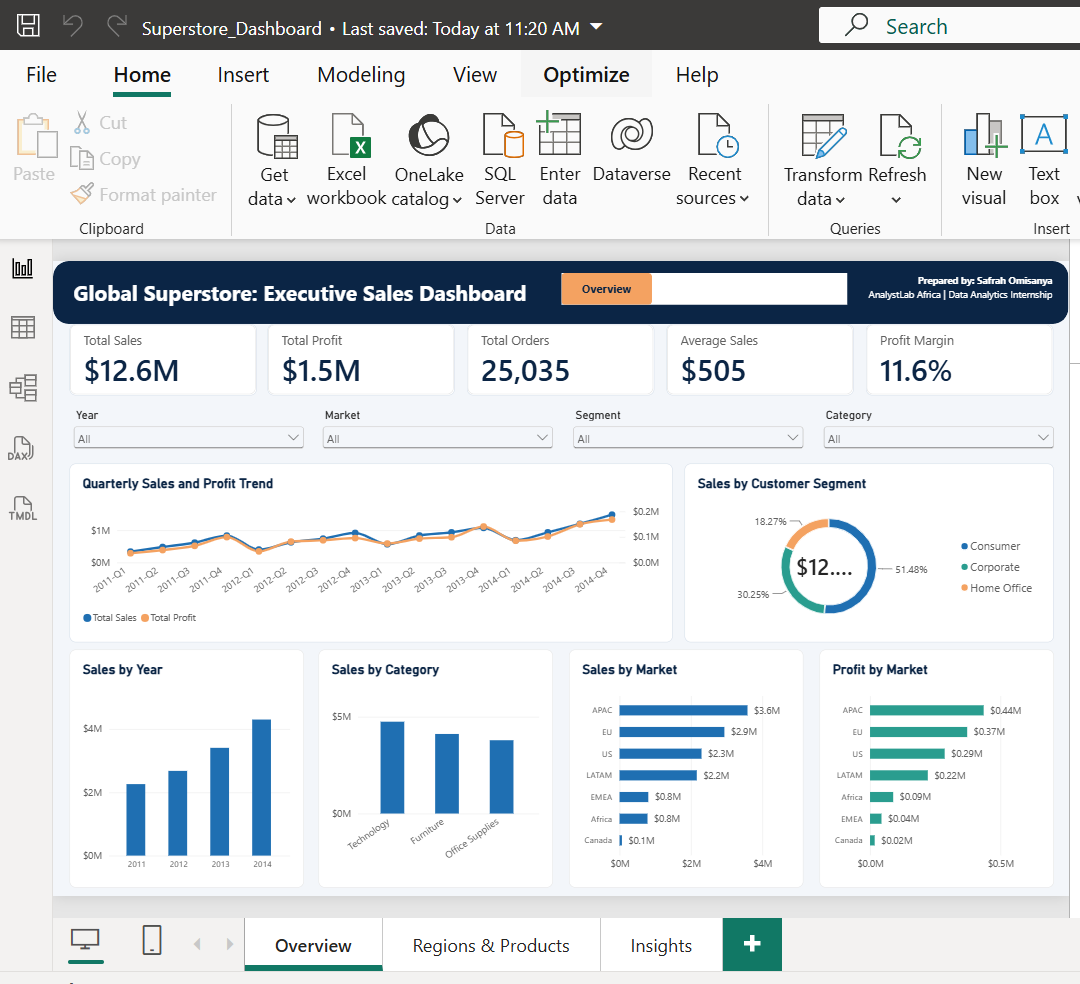

What the dashboard file says about the page in this screenshot:
{"tool":"powerbi","page":{"name":" Overview","canvas":[1280,800],"ordinal":0},"visuals":[{"type":"shape","box":[0,0,1279.4,79.4],"z":0},{"type":"cardVisual","fields":{"Data":["Orders.Total Sales"]},"box":[20,79.4,236,90],"z":1000},{"type":"cardVisual","fields":{"Data":["Orders.Total Profit"]},"box":[271,79.4,236,90],"z":2000},{"type":"cardVisual","fields":{"Data":["Orders.Total Orders"]},"box":[522,79.4,236,90],"z":3000},{"type":"cardVisual","fields":{"Data":["Orders.Average Sales"]},"box":[773,79.4,236,90],"z":4000},{"type":"cardVisual","fields":{"Data":["Orders.Profit Margin"]},"box":[1024,79.4,236,90],"z":5000},{"type":"slicer","fields":{"Values":["Calendar.Year"]},"box":[20,185,300,60],"z":6000},{"type":"slicer","fields":{"Values":["Orders.Market"]},"box":[335,185.2,300,60],"z":7000},{"type":"slicer","fields":{"Values":["Orders.Segment"]},"box":[650,185.2,300,60],"z":8000},{"type":"slicer","fields":{"Values":["Orders.Category"]},"box":[965,185.2,300,60],"z":9000},{"type":"lineChart","title":"Quarterly Sales and Profit Trend","fields":{"Category":["Calendar.Year-Quarter"],"Y":["Orders.Total Sales"],"Y2":["Orders.Total Profit"]},"box":[20,255,760,225],"z":10000},{"type":"donutChart","title":"Sales by Customer Segment","fields":{"Category":["Orders.Segment"],"Y":["Orders.Total Sales"]},"box":[795,255.1,465,225],"z":11000},{"type":"clusteredColumnChart","title":"Sales by Year","fields":{"Category":["Calendar.Year"],"Y":["Orders.Total Sales"]},"box":[20,490,295,300],"z":12000},{"type":"clusteredColumnChart","title":"Sales by Category","fields":{"Category":["Orders.Category"],"Y":["Orders.Total Sales"]},"box":[335,490,295,300],"z":13000},{"type":"clusteredBarChart","title":"Sales by Market","fields":{"Category":["Orders.Market"],"Y":["Orders.Total Sales"]},"box":[650,490,295,300],"z":14000},{"type":"clusteredBarChart","title":"Profit by Market","fields":{"Category":["Orders.Market"],"Y":["Orders.Total Profit"]},"box":[965,490,295,300],"z":15000},{"type":"textbox","box":[1010,14,250,44],"z":17000},{"type":"pageNavigator","box":[640,15,360,40],"z":17001}]}

Visuals, with their boxes on the page's 1280x800 design canvas (x1, y1, x2, y2). These are canvas units, not pixel positions in the 1080x984 screenshot, which may show the page scaled, cropped or inside an application window:
shape: box=[0, 0, 1279, 79]
cardVisual - Orders.Total Sales: box=[20, 79, 256, 169]
cardVisual - Orders.Total Profit: box=[271, 79, 507, 169]
cardVisual - Orders.Total Orders: box=[522, 79, 758, 169]
cardVisual - Orders.Average Sales: box=[773, 79, 1009, 169]
cardVisual - Orders.Profit Margin: box=[1024, 79, 1260, 169]
slicer - Calendar.Year: box=[20, 185, 320, 245]
slicer - Orders.Market: box=[335, 185, 635, 245]
slicer - Orders.Segment: box=[650, 185, 950, 245]
slicer - Orders.Category: box=[965, 185, 1265, 245]
"Quarterly Sales and Profit Trend" lineChart: box=[20, 255, 780, 480]
"Sales by Customer Segment" donutChart: box=[795, 255, 1260, 480]
"Sales by Year" clusteredColumnChart: box=[20, 490, 315, 790]
"Sales by Category" clusteredColumnChart: box=[335, 490, 630, 790]
"Sales by Market" clusteredBarChart: box=[650, 490, 945, 790]
"Profit by Market" clusteredBarChart: box=[965, 490, 1260, 790]
textbox: box=[1010, 14, 1260, 58]
pageNavigator: box=[640, 15, 1000, 55]
